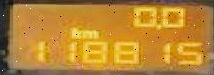-: (154, 22, 160, 28)
0: (158, 6, 183, 27), (129, 6, 154, 26)
1: (161, 39, 172, 65), (34, 38, 45, 63), (65, 38, 76, 63)
5: (174, 40, 203, 65)
8: (109, 38, 138, 63), (78, 38, 105, 63)
X: (81, 28, 99, 37), (67, 24, 78, 37)
